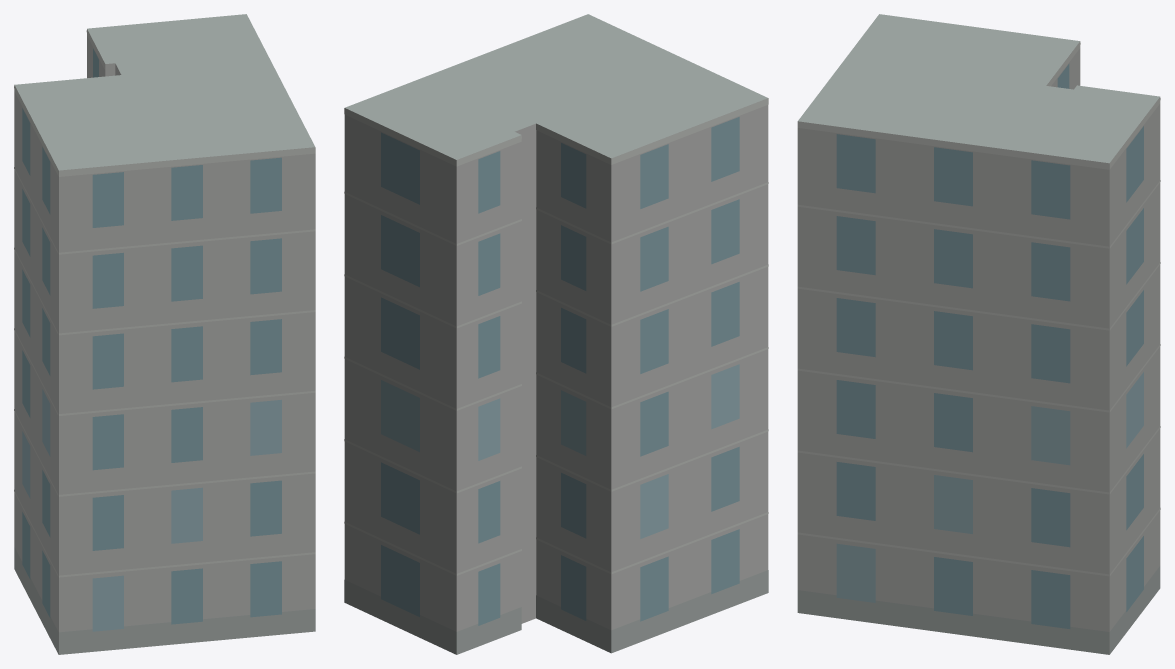
File: survey-upis-32797051.glb
3 renders of one model, left to right at view 1: azimuth 30°, elevation 25°; view 2: azimuth 150°, elevation 25°; view 3: azimuth 270°, elevation 25°, orthographic. The views are drawn at different scales.
Parts seen in each view (by area): view 1: survey-upis-32797051.tmp; view 2: survey-upis-32797051.tmp; view 3: survey-upis-32797051.tmp.
Part boxes in pixels (bbox=[...]): survey-upis-32797051.tmp: bbox=[14, 14, 315, 654]; survey-upis-32797051.tmp: bbox=[344, 14, 768, 654]; survey-upis-32797051.tmp: bbox=[797, 14, 1160, 654].
Bounding box in the file's own units: 11.94 × 18.3 × 12.26.
